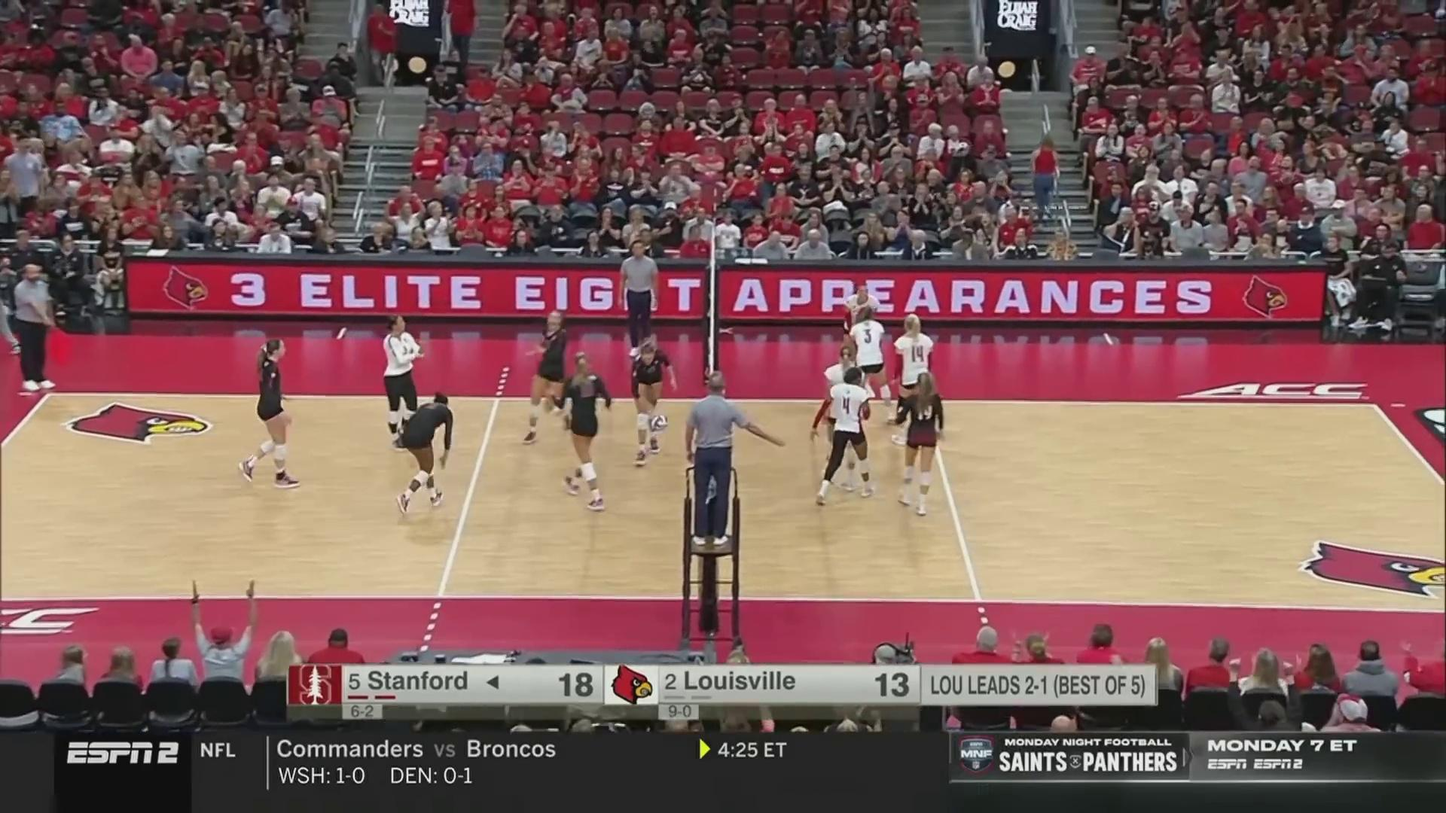player: (553, 363, 622, 514), (809, 367, 882, 508), (891, 366, 956, 518), (379, 315, 442, 467), (243, 338, 306, 489), (810, 339, 869, 496), (392, 381, 457, 517), (527, 305, 594, 432), (833, 279, 895, 408), (620, 331, 671, 470), (888, 315, 936, 449), (841, 304, 894, 424)
refree: (685, 370, 766, 546), (7, 264, 61, 399), (620, 238, 665, 360)
